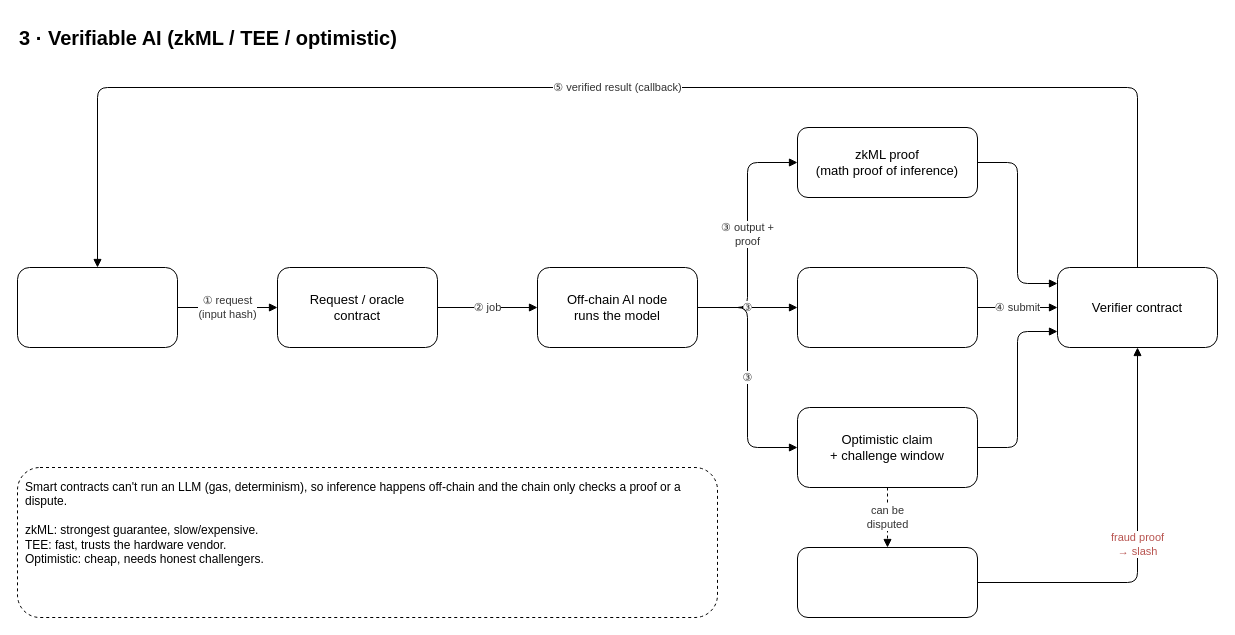
The diagram is 1235 pixels wide and 635 high, and some of its shapes have lost their labels. Each missing label, with the box of its shape:
Challengers re-run the model: (796, 546, 978, 618)
Consumer contract (needs an AI result): (16, 266, 178, 348)
TEE attestation (SGX / Nitro enclave): (796, 266, 978, 348)
